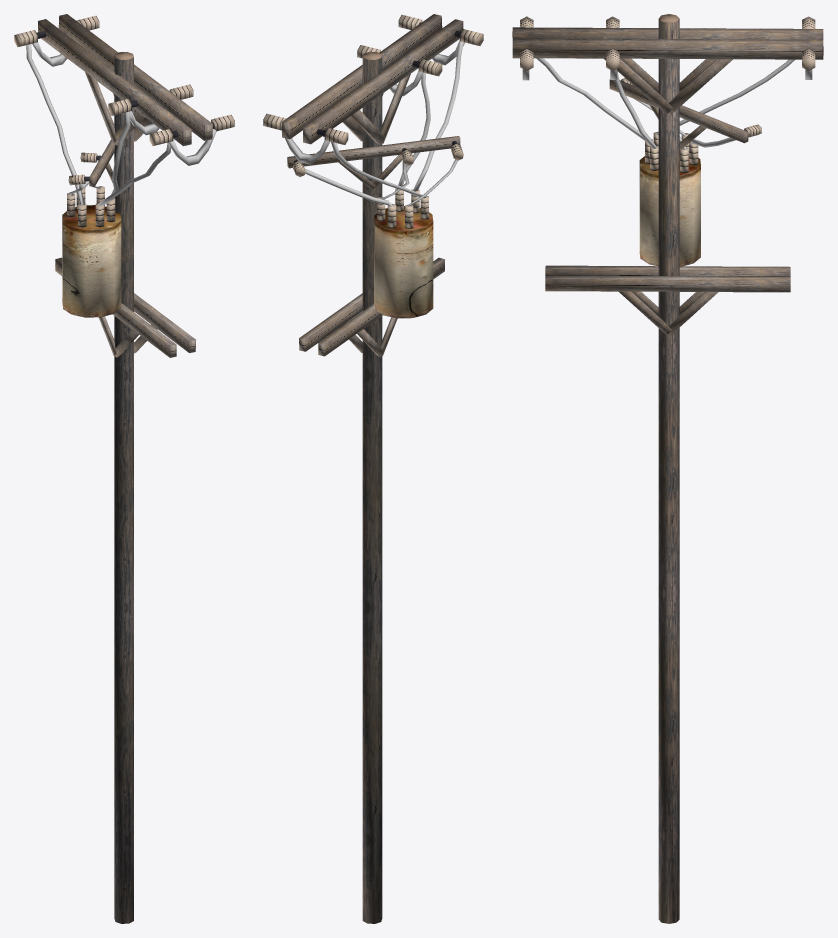
Rendered from PowerPoleTrans.fbx.
3 views of the same model, side by side, from view 1: azimuth 30°, elevation 25°; view 2: azimuth 150°, elevation 25°; view 3: azimuth 270°, elevation 25° (orthographic). The views are drawn at different scales.
Parts seen in each view (by area): view 1: main700, pole700, wires700; view 2: main700, pole700, wires700; view 3: main700, pole700, wires700.
Part boxes in pixels (x1,y1,x2,y2): main700: (14, 14, 234, 357); pole700: (114, 52, 133, 923); wires700: (26, 42, 216, 206); main700: (263, 14, 483, 357); pole700: (362, 51, 382, 923); wires700: (281, 39, 464, 206); main700: (512, 16, 823, 335); pole700: (658, 14, 679, 923); wires700: (522, 58, 812, 149).
Size of the model in its own units: 1.38 by 9.3 by 2.91.
